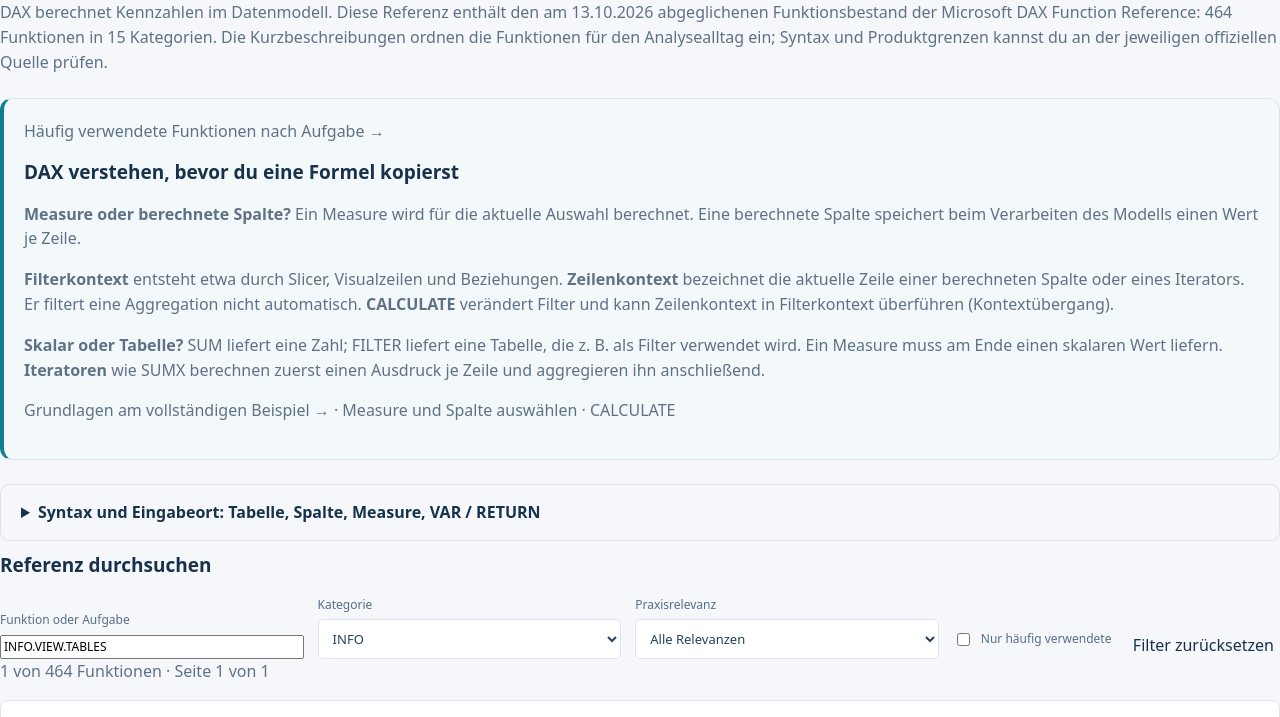
Test: DAX-Referenz bedienen › begrenzt Häufigkeit und kennzeichnet Modellmetadaten als fortgeschritten
Click the checkbox.
click(963, 640)  # box x1=957 y1=633 x2=970 y2=646
(page scrolled)
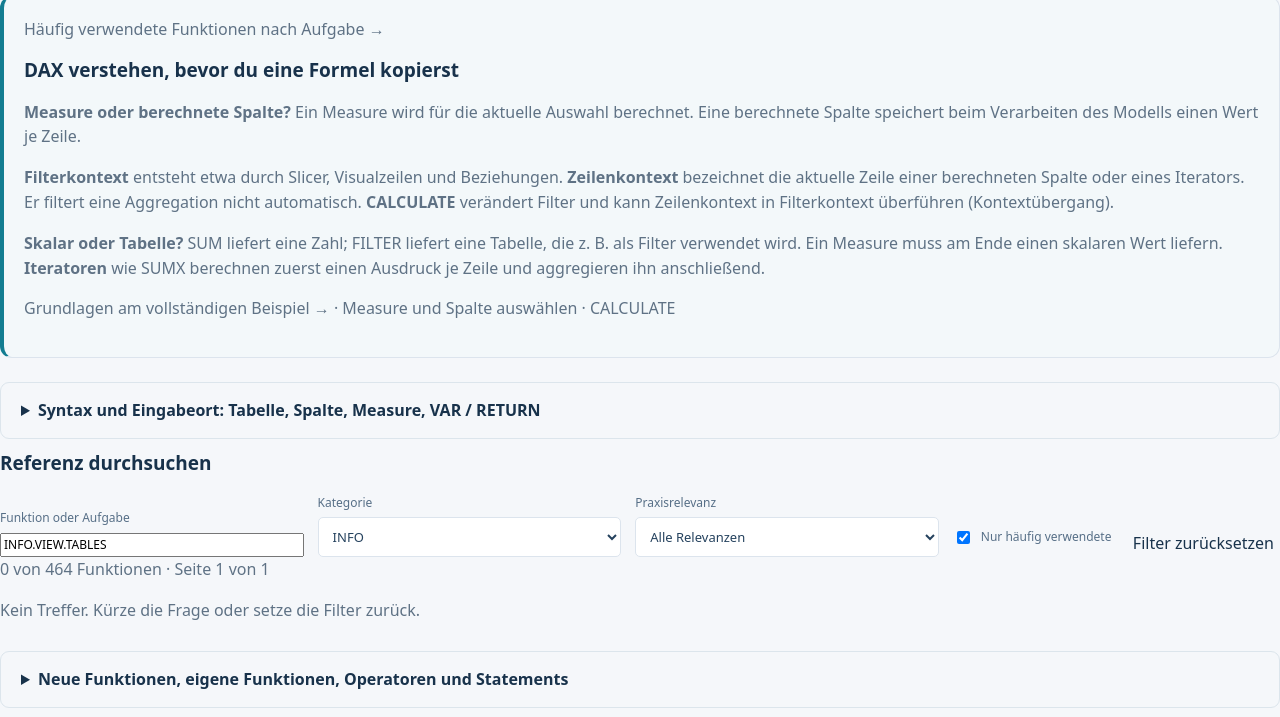
expect the text "Kein Treffer. Kürze die Frage oder setze die Filter zurück." is shown: met, box x1=0 y1=599 x2=420 y2=621
